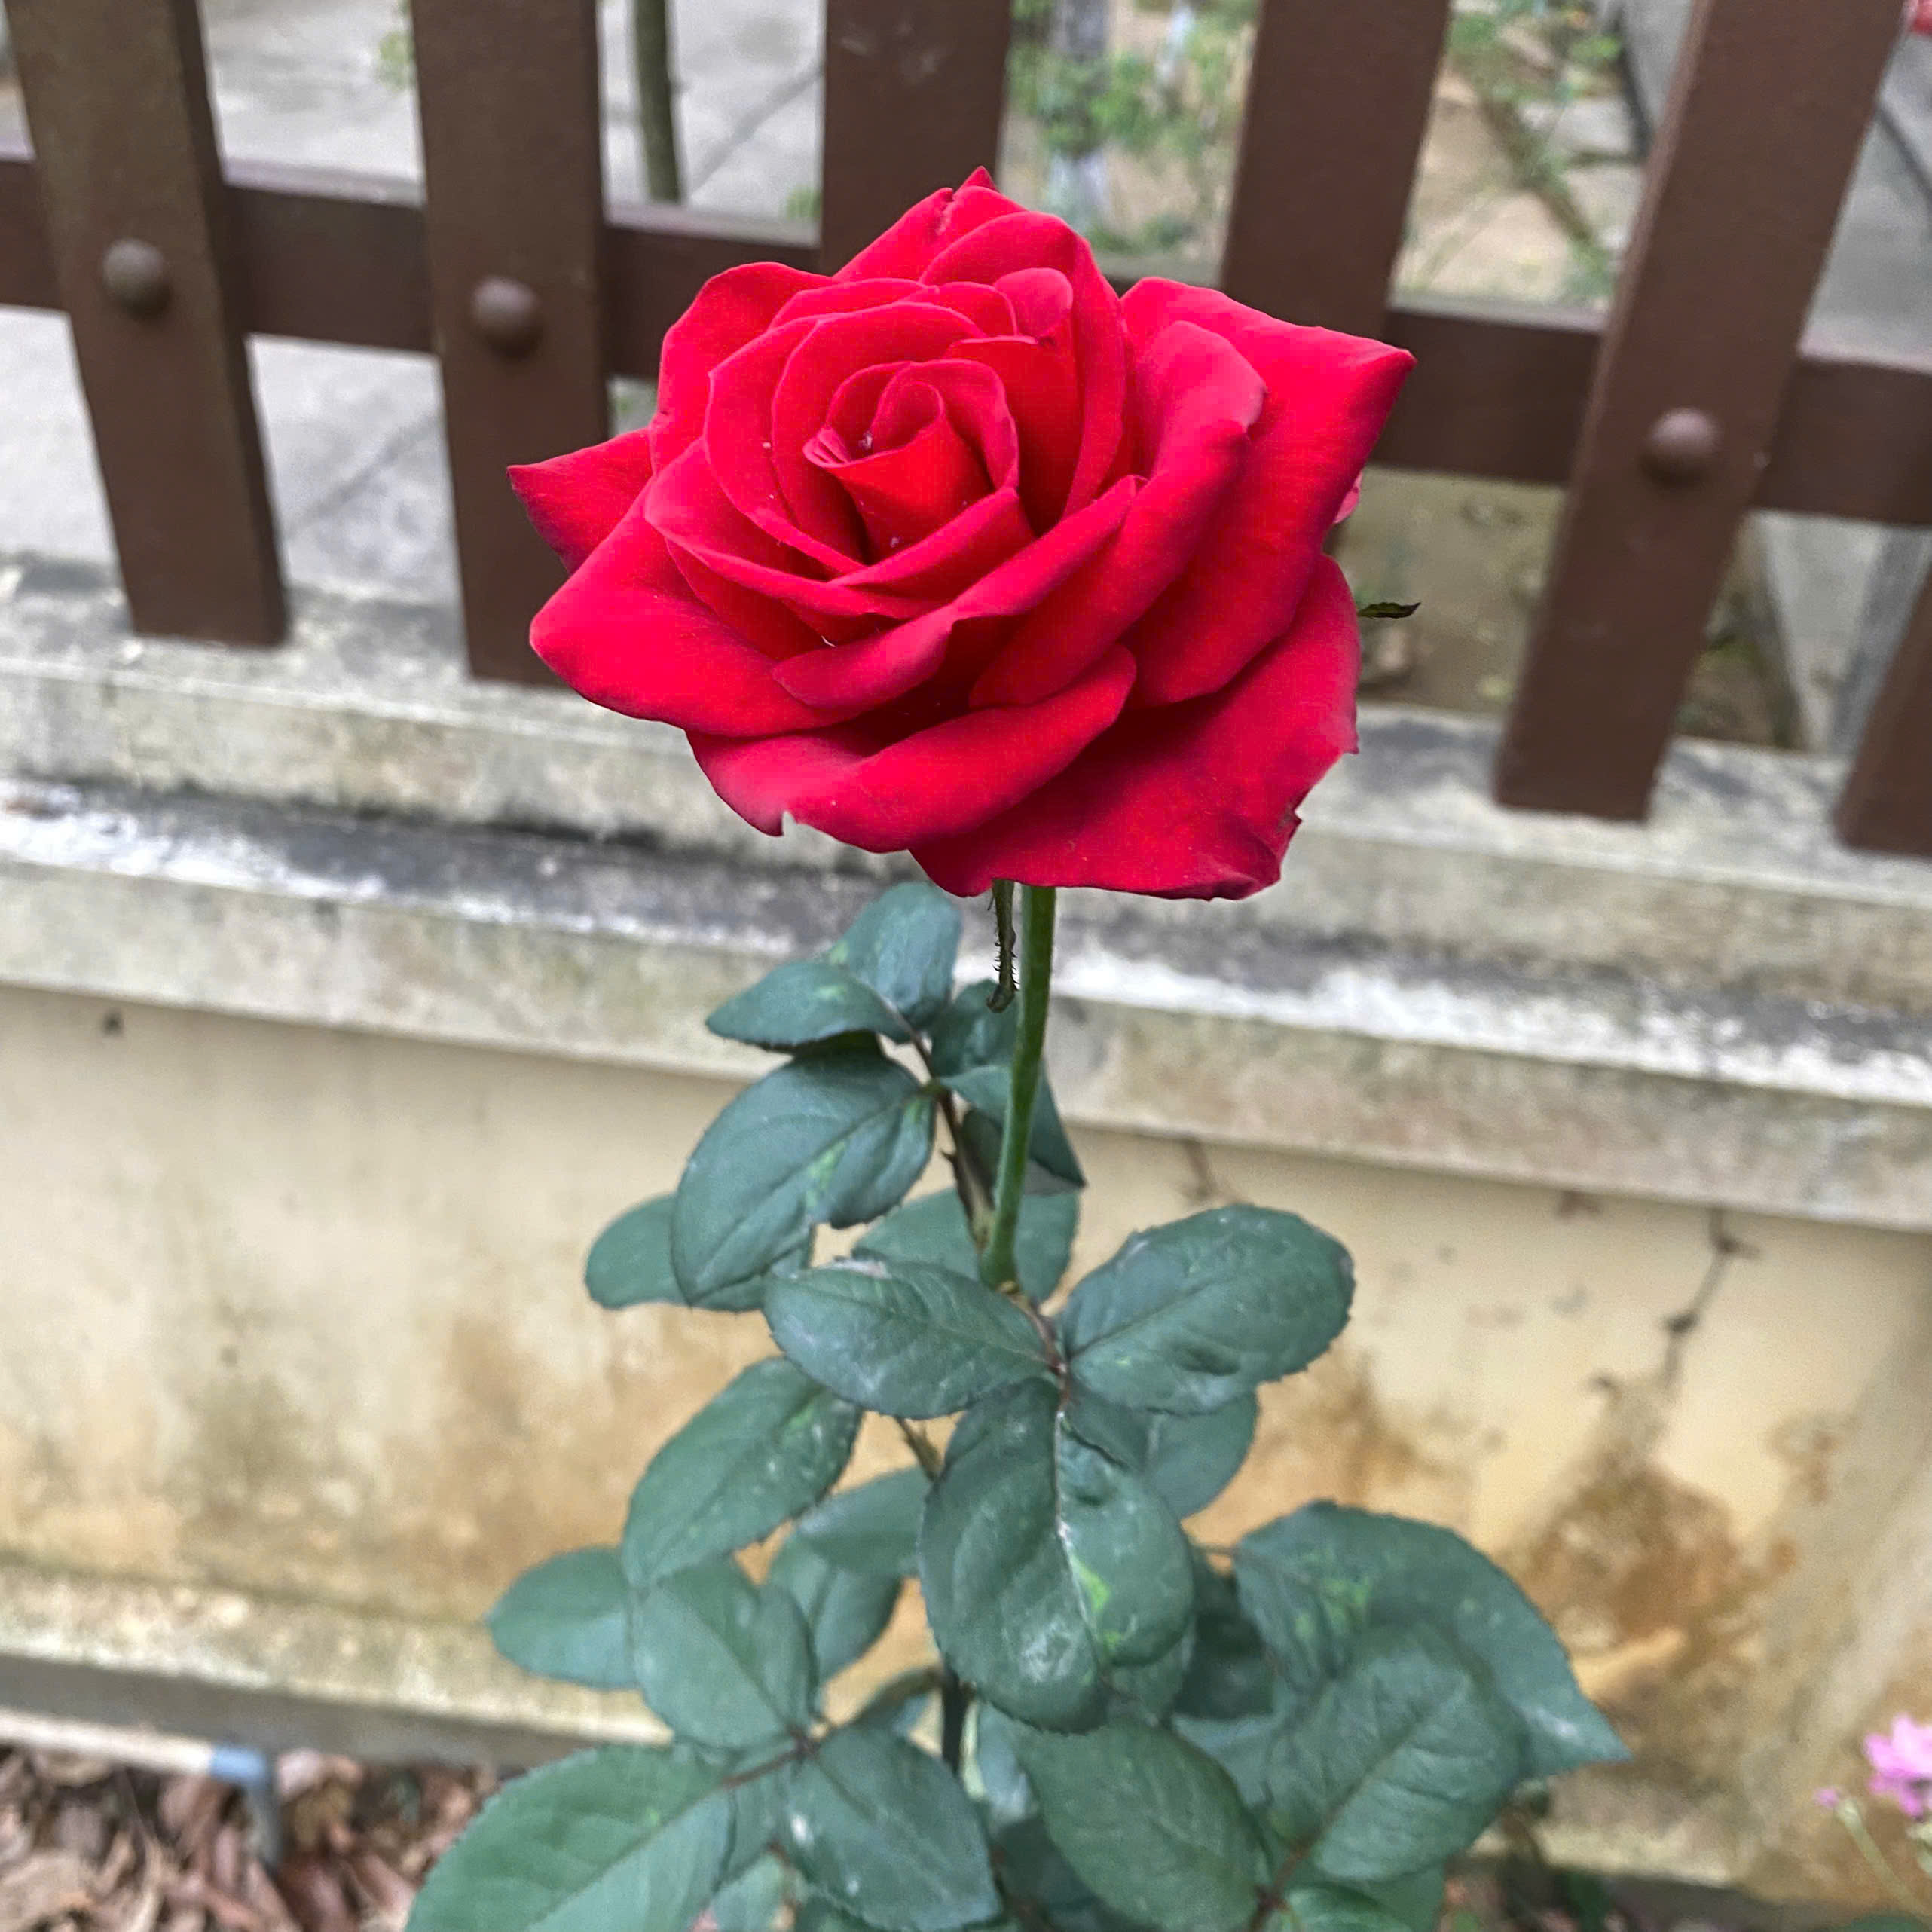hoa_hong_do: (347, 166, 1638, 1921)
